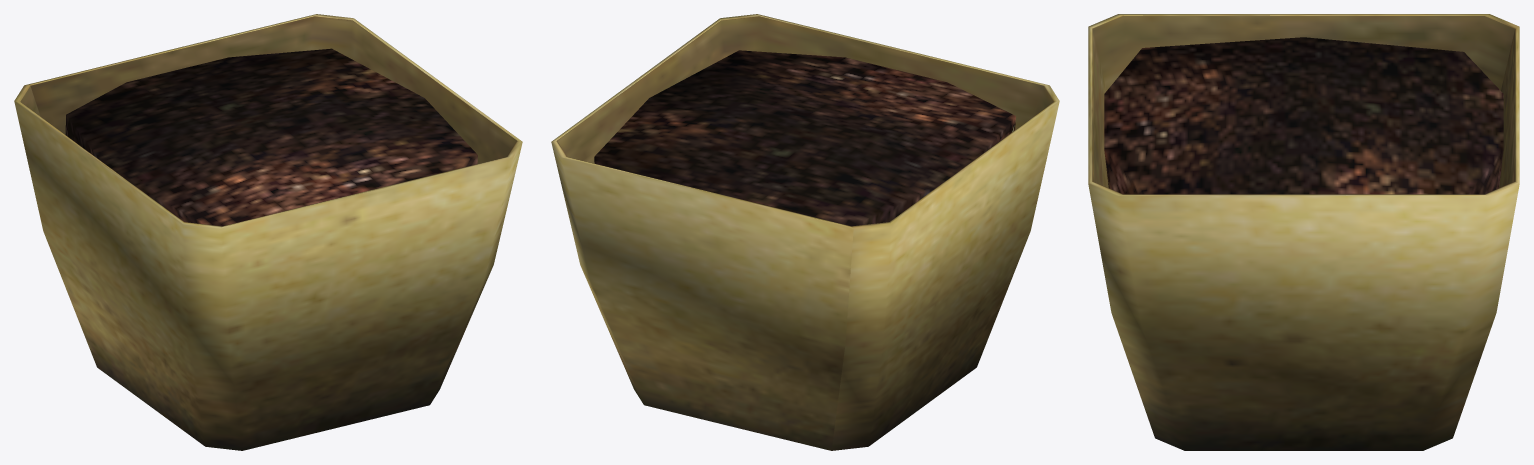
File: plant_dracaena02_withered_base.dae
3 renders of one model, left to right at view 1: azimuth 30°, elevation 25°; view 2: azimuth 150°, elevation 25°; view 3: azimuth 270°, elevation 25°, orthographic. The views are drawn at different scales.
Parts seen in each view (by area): view 1: plant_dracaena02_plant_dracaena03; view 2: plant_dracaena02_plant_dracaena03; view 3: plant_dracaena02_plant_dracaena03.
Boxes of the visible parts, x1,y1,x2,y2 form: plant_dracaena02_plant_dracaena03: (14, 14, 522, 450); plant_dracaena02_plant_dracaena03: (551, 14, 1059, 450); plant_dracaena02_plant_dracaena03: (1088, 14, 1519, 450).
Size of the model in its own units: 0.1845 by 0.1335 by 0.1845.
